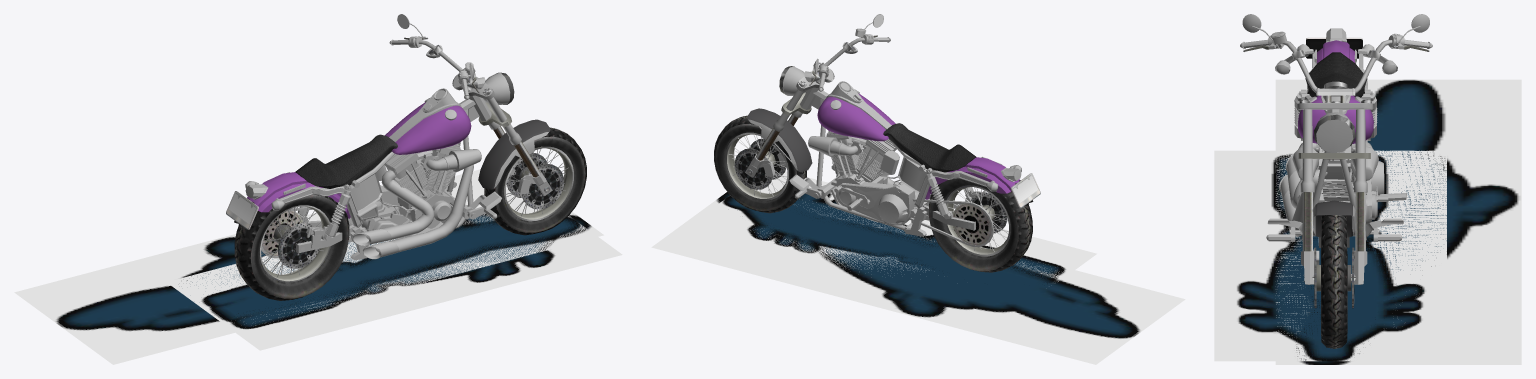
The model's file is bike4.fbx.
The picture shows the model from 3 angles, left to right: view 1: azimuth 30°, elevation 25°; view 2: azimuth 150°, elevation 25°; view 3: azimuth 270°, elevation 25°; orthographic projection. The views are drawn at different scales.
Visible parts, largest first — view 1: Shadow_SunSet, Shadow_DayLight, Reflection, Tyre_B_4, Body, Rim_B_4, Tyre_F_4, Rim_F_4, SteeringLights, Matt, SteeringChrome, SteeringBody (+1 smaller); view 2: Shadow_SunSet, Shadow_DayLight, Reflection, Tyre_B_4, Body, Rim_B_4, Tyre_F_4, Rim_F_4, SteeringLights, Matt, SteeringChrome, SteeringBody (+1 smaller); view 3: Shadow_DayLight, Shadow_SunSet, Reflection, SteeringLights, SteeringChrome, Tyre_F_4, Matt, Body, SteeringBody, Rim_F_4, Plate.
Boxes of the visible parts, bbox=[...] form: Shadow_SunSet: bbox=[14, 169, 603, 364]; Shadow_DayLight: bbox=[166, 191, 622, 350]; Reflection: bbox=[245, 88, 501, 260]; Tyre_B_4: bbox=[234, 194, 349, 300]; Body: bbox=[247, 102, 471, 218]; Rim_B_4: bbox=[260, 205, 330, 282]; Tyre_F_4: bbox=[484, 127, 586, 235]; Rim_F_4: bbox=[504, 146, 573, 221]; SteeringLights: bbox=[389, 14, 552, 195]; Matt: bbox=[295, 134, 397, 188]; SteeringChrome: bbox=[404, 37, 550, 192]; SteeringBody: bbox=[478, 119, 550, 189]; Shadow_SunSet: bbox=[651, 192, 1185, 364]; Shadow_DayLight: bbox=[684, 171, 1096, 283]; Reflection: bbox=[789, 81, 1021, 247]; Tyre_B_4: bbox=[929, 178, 1032, 272]; Body: bbox=[817, 93, 1019, 199]; Rim_B_4: bbox=[945, 185, 1010, 256]; Tyre_F_4: bbox=[714, 115, 806, 213]; Rim_F_4: bbox=[725, 132, 788, 200]; SteeringLights: bbox=[745, 14, 890, 177]; Matt: bbox=[883, 123, 976, 172]; SteeringChrome: bbox=[747, 35, 877, 174]; SteeringBody: bbox=[747, 108, 812, 171]; Shadow_DayLight: bbox=[1214, 150, 1446, 361]; Shadow_SunSet: bbox=[1275, 79, 1521, 364]; Reflection: bbox=[1266, 28, 1406, 247]; SteeringLights: bbox=[1240, 14, 1432, 284]; SteeringChrome: bbox=[1243, 40, 1429, 282]; Tyre_F_4: bbox=[1321, 214, 1347, 348]; Matt: bbox=[1305, 52, 1367, 97]; Body: bbox=[1298, 40, 1373, 143]; SteeringBody: bbox=[1315, 200, 1352, 237]; Rim_F_4: bbox=[1314, 247, 1354, 308]; Plate: bbox=[1306, 37, 1362, 58].
Size of the model in its own units: 314 by 135 by 136.
